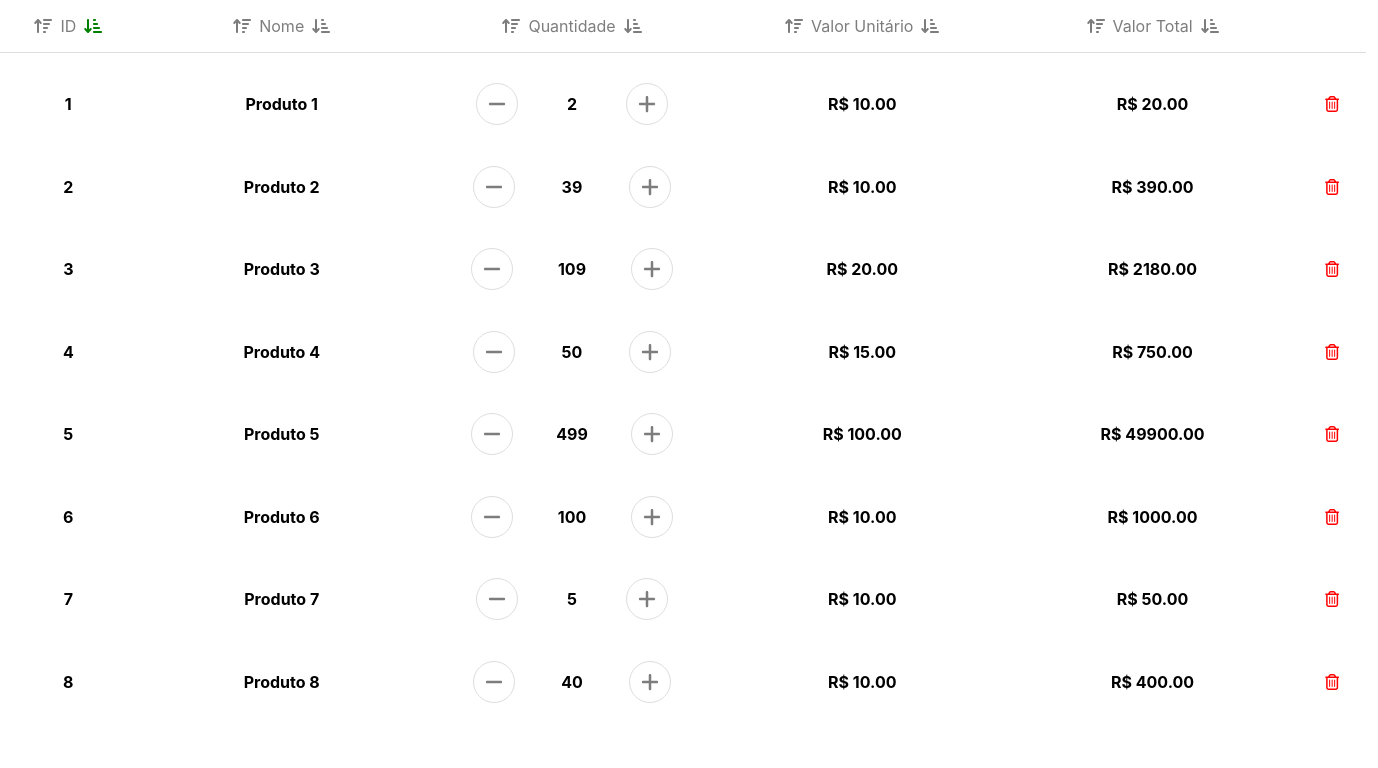
Scenario: quantity component › increases and decreases valor total when it changes
The image size is (1378, 768).
Expected: the heading "2" is shown, [567,94,577,114]
Expected: the text "R$ 20.00" in the row of "Produto 1" is shown, [1117,94,1188,114]
Click the picture named "plus" in the row of "Produto 1": point(647, 104) [626,83,668,125]
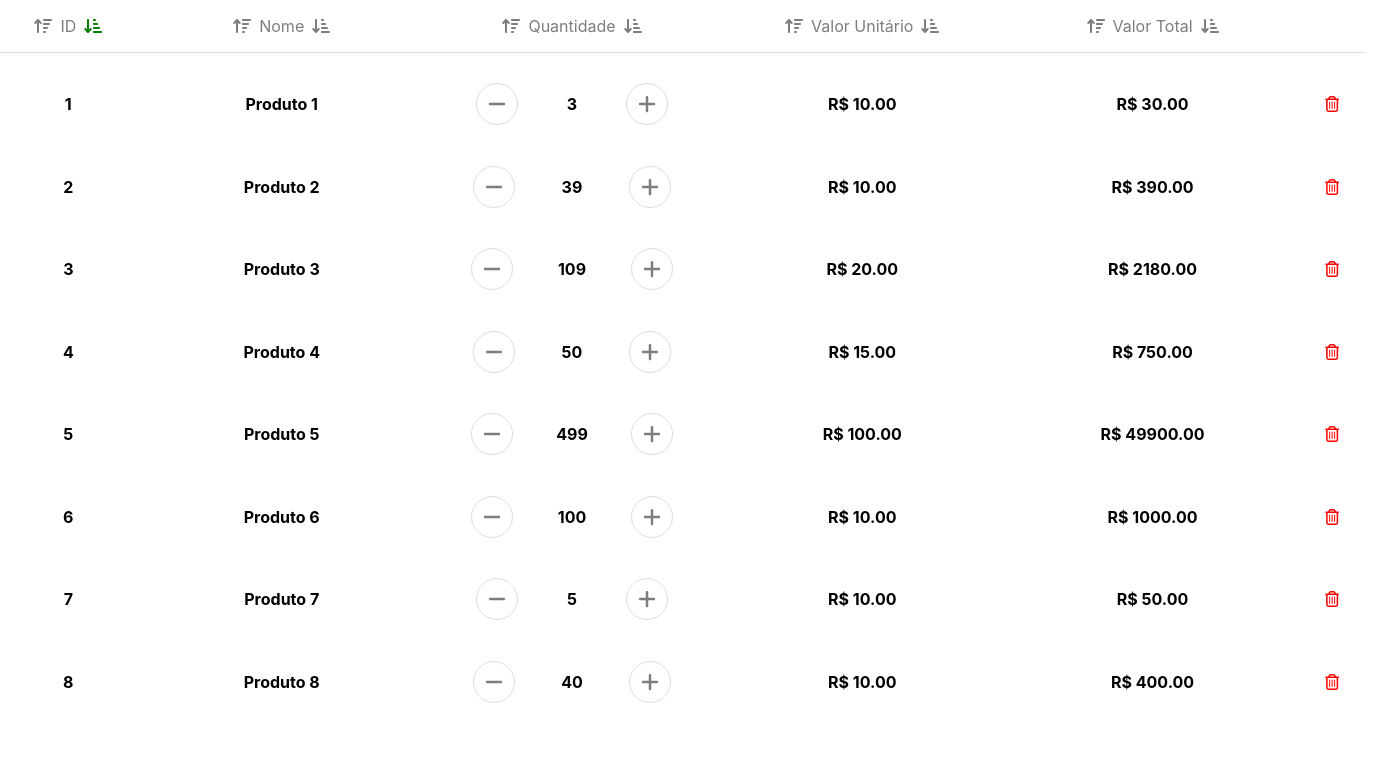
Now the heading "3" is shown, box [567,94,577,114]
Now the text "R$ 30.00" is shown, box [1117,94,1188,114]
Click the picture named "minus" next to "Produto 1": point(497, 104) [476,83,518,125]
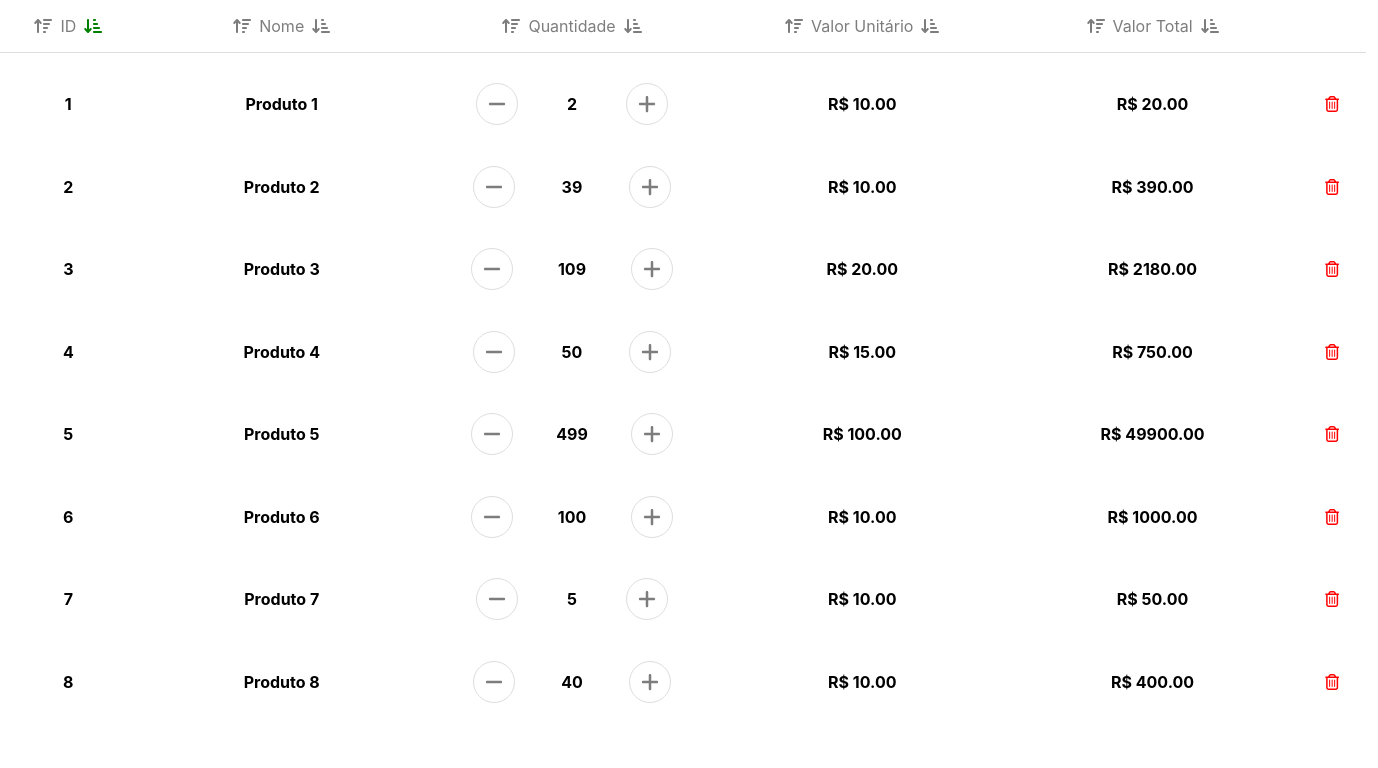
Now the heading "2" is shown, box [567,94,577,114]
Now the text "R$ 20.00" in the row of "Produto 1" is shown, box [1117,94,1188,114]
